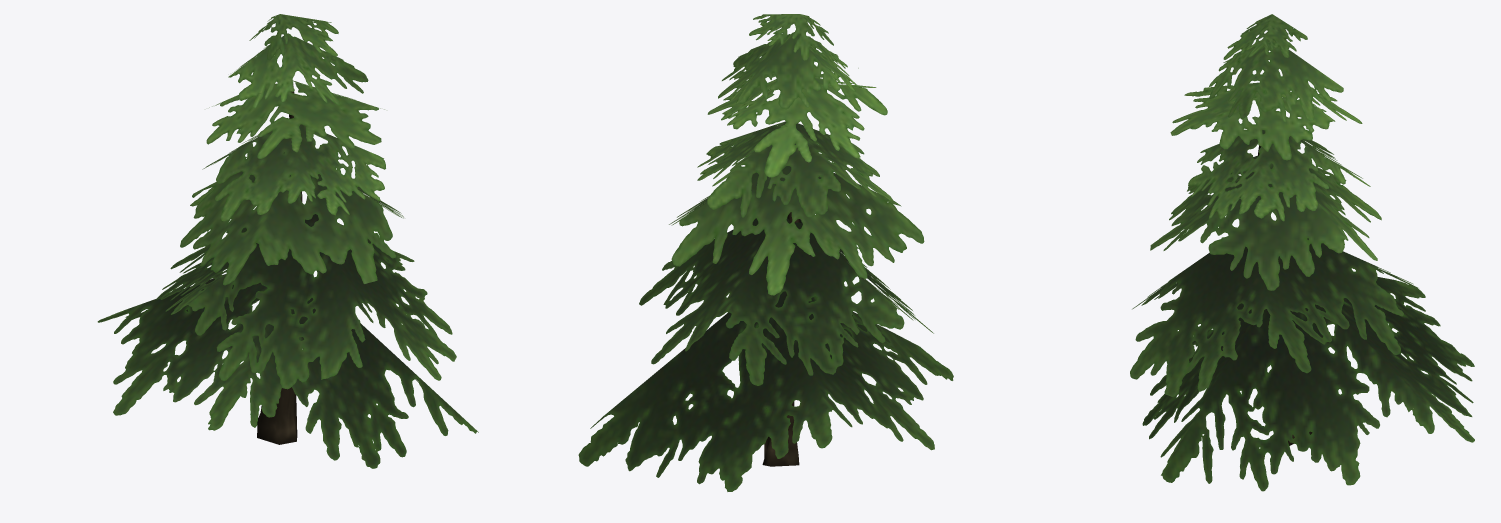
File: Pine_02.fbx
The picture shows the model from 3 angles, left to right: view 1: azimuth 30°, elevation 25°; view 2: azimuth 150°, elevation 25°; view 3: azimuth 270°, elevation 25°; orthographic projection. The views are drawn at different scales.
Visible parts, largest first — view 1: polySurface82; view 2: polySurface82; view 3: polySurface82.
Part boxes in pixels (<box>): polySurface82: <box>97,14,478,468</box>; polySurface82: <box>578,14,953,491</box>; polySurface82: <box>1130,14,1474,491</box>.
Size of the model in its own units: 832 by 907 by 833.
